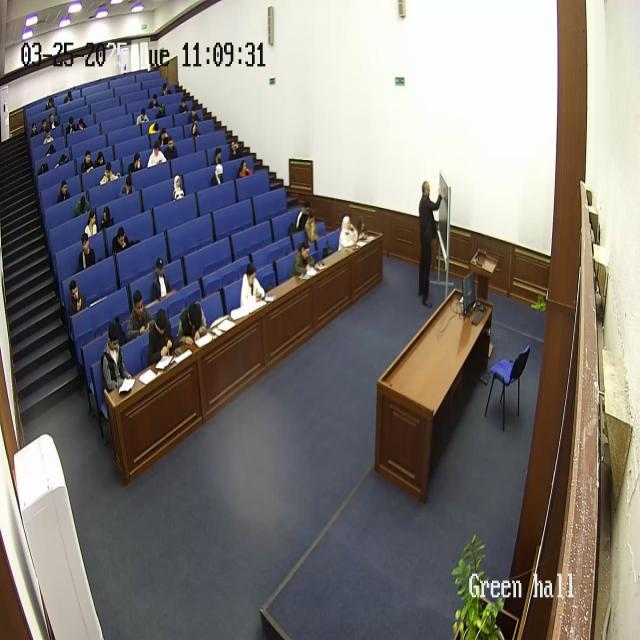person: (416, 180, 444, 308), (100, 322, 130, 393), (147, 308, 175, 364), (176, 301, 208, 348), (126, 290, 152, 340), (240, 260, 266, 310), (150, 259, 172, 301), (77, 232, 98, 273), (67, 280, 87, 321), (293, 239, 313, 277), (295, 203, 315, 240), (338, 213, 358, 248), (111, 225, 131, 255), (147, 142, 167, 168), (99, 163, 119, 186), (85, 209, 100, 239), (75, 191, 91, 219), (56, 178, 72, 204), (162, 137, 178, 161), (54, 150, 71, 172), (119, 175, 135, 198), (130, 150, 146, 173), (101, 204, 115, 230), (78, 150, 95, 170), (172, 175, 185, 201), (210, 162, 224, 186), (227, 138, 241, 162), (156, 97, 168, 122), (237, 159, 251, 179), (136, 104, 150, 123), (42, 142, 58, 158), (36, 160, 50, 178), (76, 116, 88, 135), (42, 125, 54, 144), (211, 147, 224, 164), (64, 117, 75, 136), (43, 96, 56, 112), (190, 120, 200, 140), (160, 78, 170, 97), (49, 113, 60, 129), (95, 150, 106, 166), (178, 96, 188, 112), (38, 120, 49, 134), (150, 93, 159, 110), (188, 105, 198, 120), (148, 120, 160, 132), (28, 124, 38, 136), (63, 89, 72, 102)
